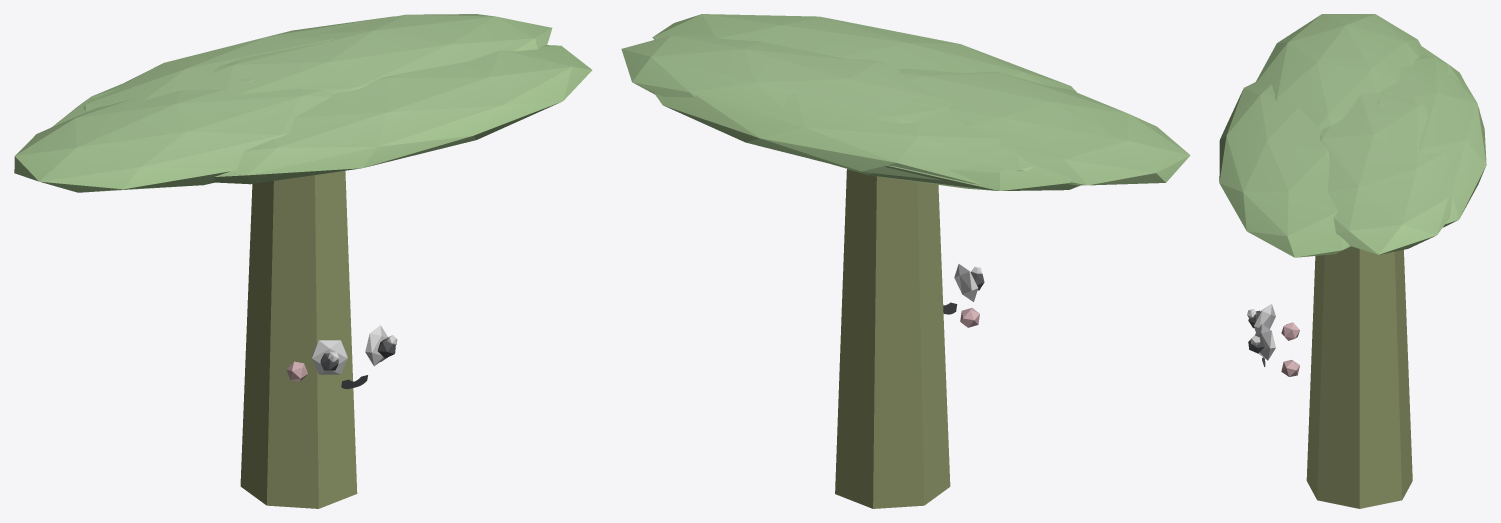
The model's file is costus-pictus.glb.
The picture shows the model from 3 angles, left to right: view 1: azimuth 30°, elevation 25°; view 2: azimuth 150°, elevation 25°; view 3: azimuth 270°, elevation 25°; orthographic projection. The views are drawn at different scales.
Parts seen in each view (by area): view 1: pseudostem, leaf1, leaf2, leaf0, leaf3, pface-eye-r; view 2: pseudostem, leaf2, leaf0, leaf3, leaf1, leaf4; view 3: pseudostem, leaf0, leaf1, leaf2, leaf3, pface-eye-l, leaf4, pface-eye-r.
Part boxes in pixels (left/top/right/bottom): pseudostem: left=240, top=171, right=357, bottom=508; leaf1: left=213, top=45, right=592, bottom=184; leaf2: left=14, top=88, right=333, bottom=192; leaf0: left=212, top=14, right=552, bottom=94; leaf3: left=83, top=16, right=394, bottom=111; pface-eye-r: left=312, top=340, right=347, bottom=374; pseudostem: left=835, top=169, right=950, bottom=508; leaf2: left=899, top=68, right=1190, bottom=185; leaf0: left=621, top=35, right=952, bottom=123; leaf3: left=654, top=93, right=1034, bottom=184; leaf1: left=652, top=14, right=1076, bottom=92; leaf4: left=832, top=156, right=1079, bottom=190; pseudostem: left=1306, top=246, right=1412, bottom=508; leaf0: left=1319, top=91, right=1453, bottom=254; leaf1: left=1219, top=82, right=1351, bottom=257; leaf2: left=1255, top=14, right=1420, bottom=129; leaf3: left=1377, top=55, right=1486, bottom=227; pface-eye-l: left=1255, top=324, right=1275, bottom=360; leaf4: left=1416, top=44, right=1479, bottom=109; pface-eye-r: left=1254, top=304, right=1275, bottom=332.
Bounding box in the file's own units: 0.6235 × 0.446 × 0.2945.
